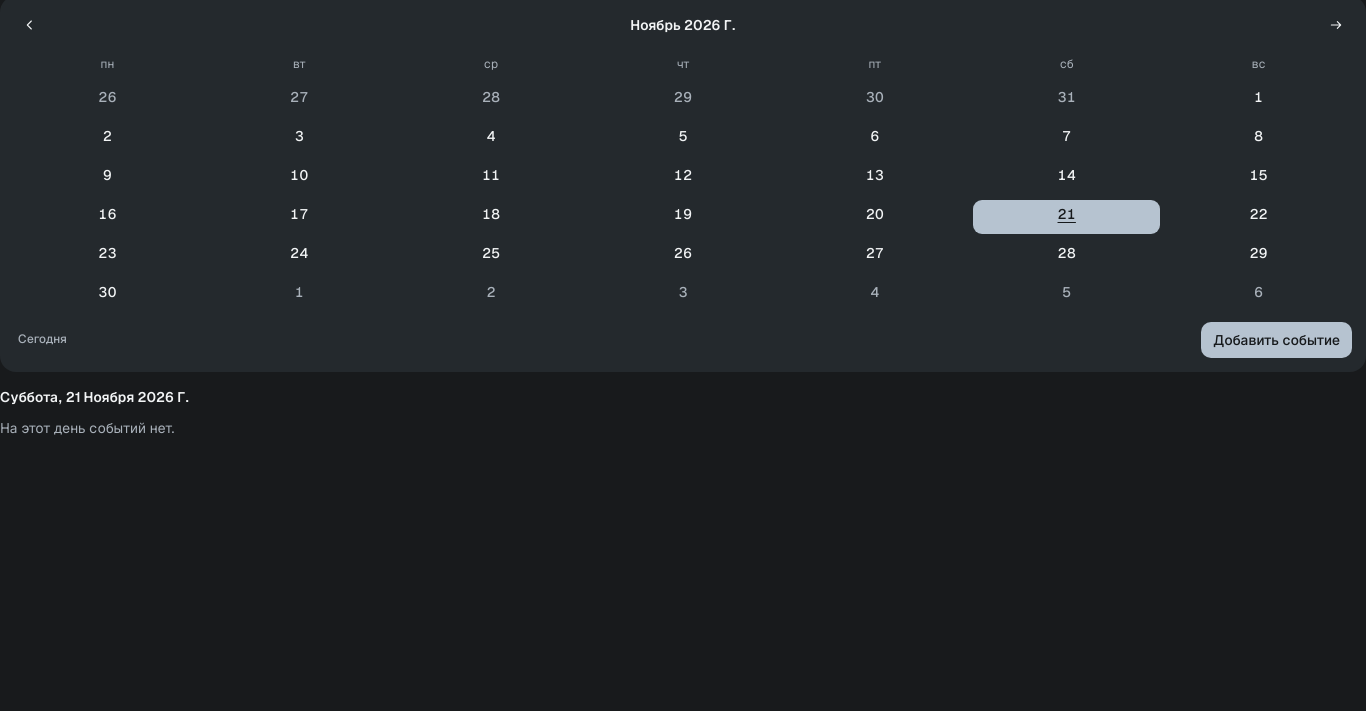
Test: saves through native bridge and renders returned event
Click the button "Добавить событие" at (1277, 340), box [1201,322,1352,358]
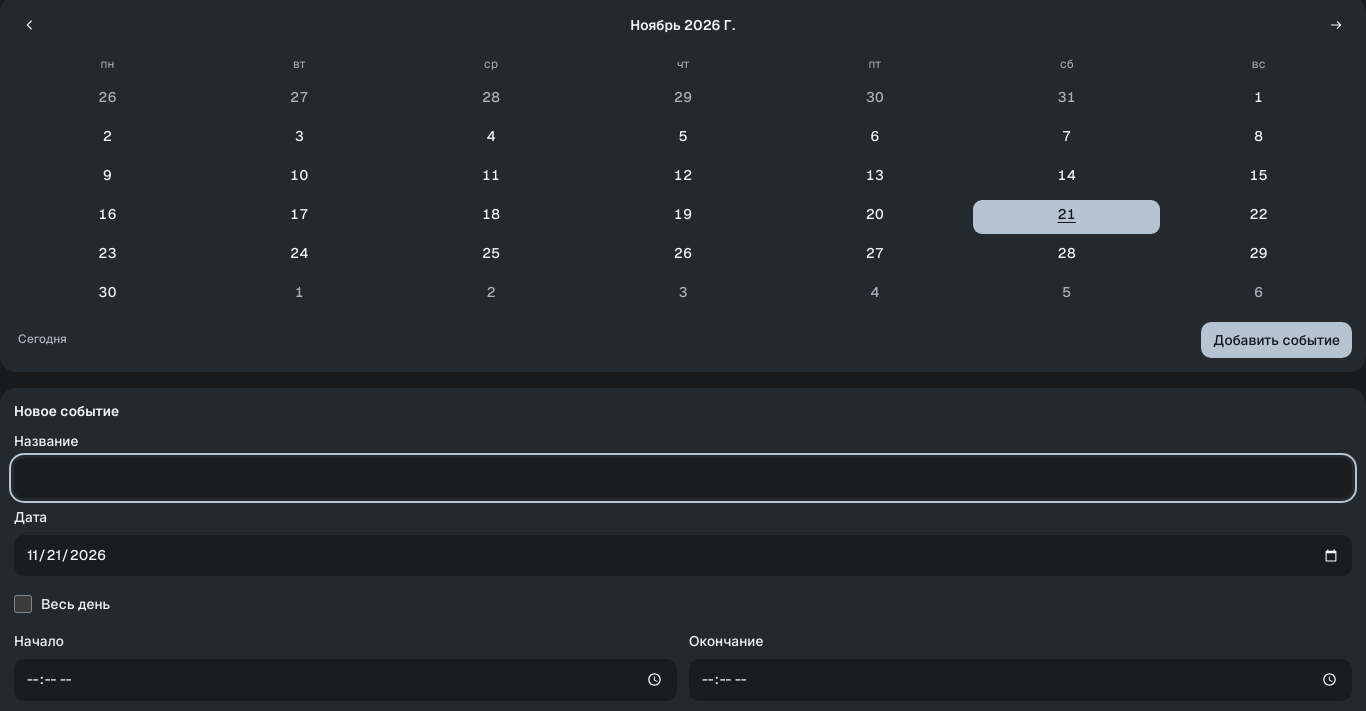
Type "Review release" into the field labelled "Название" at (683, 478), box [14,458,1352,498]
(page scrolled)
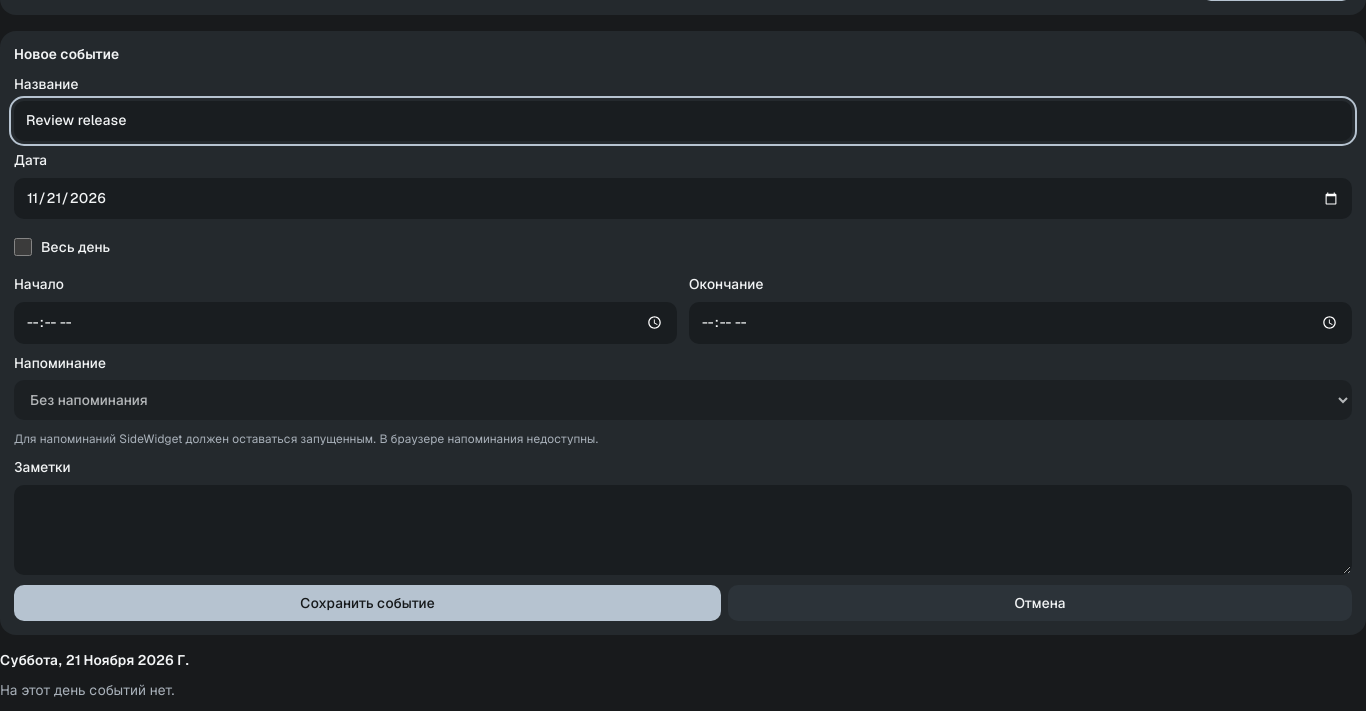
Click the button "Сохранить событие" at (368, 603), box [14,585,721,621]
(page scrolled)
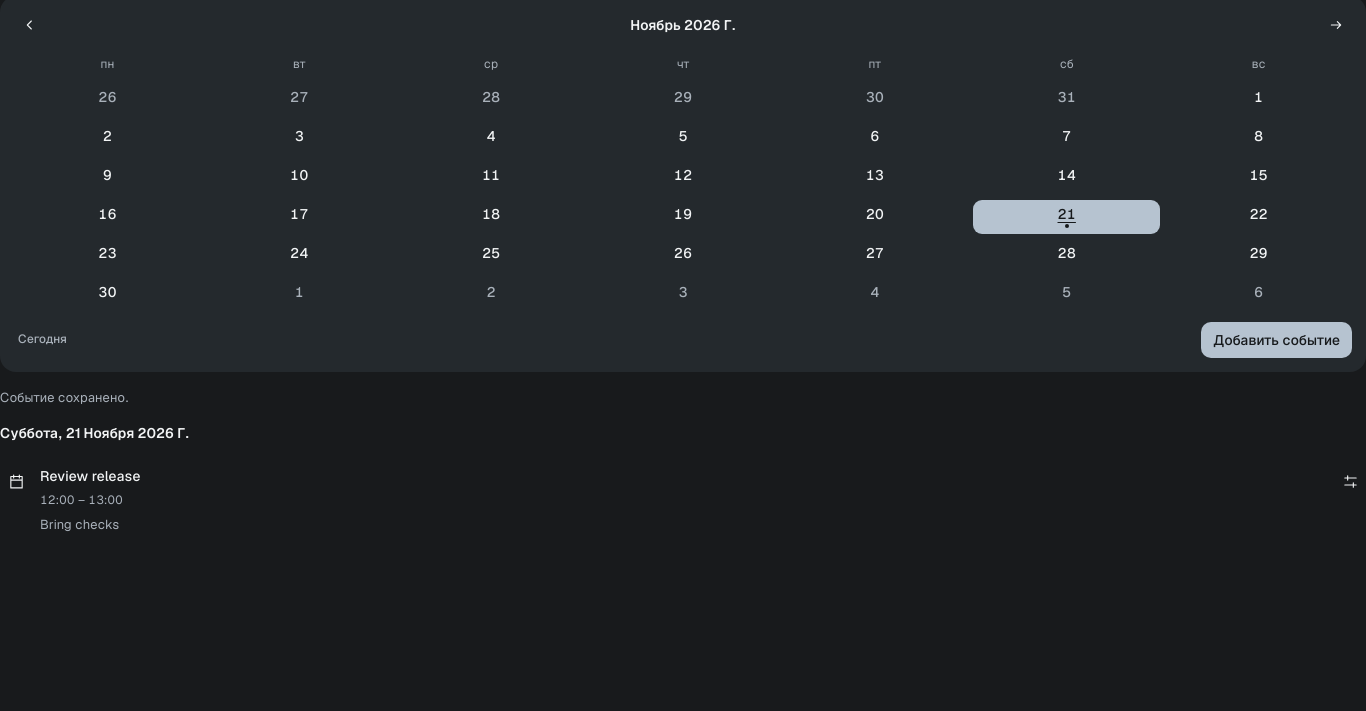
Expected: the text "Review release" is shown, [40,467,140,485]
